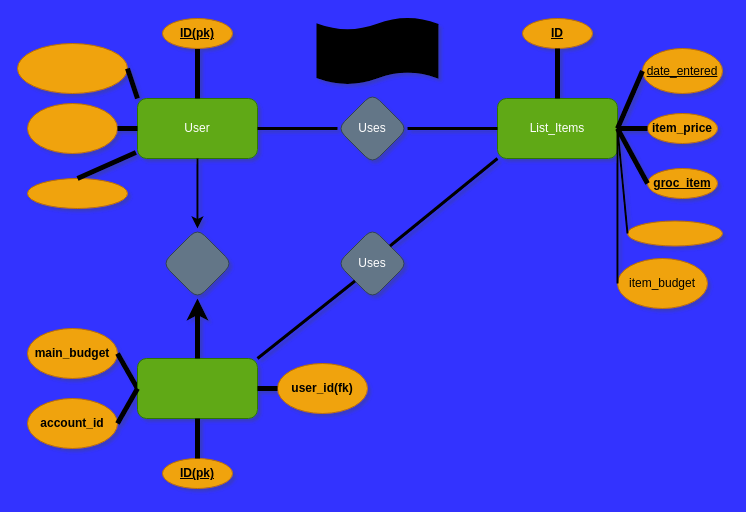
Some shapes in this 746 by 512 pixel diagram are drawn without their labels. The centre of each missing label's shape, as x and y in pixels:
"Bank_account" belongs at pixel 197 388.
"bank_id(fk)" belongs at pixel 72 128.
"Belongs to" belongs at pixel 197 263.
"Future ERD Grocery" belongs at pixel 377 50.
"notes" belongs at pixel 674 233.
"password" belongs at pixel 72 68.
"username" belongs at pixel 77 193.
